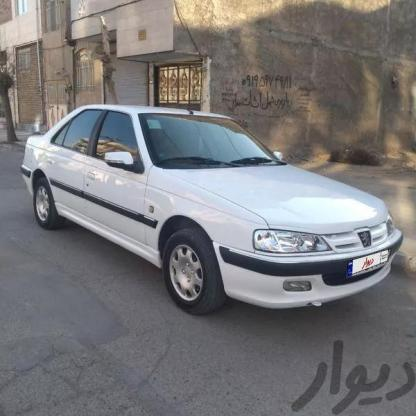Car: (15, 98, 413, 326)
